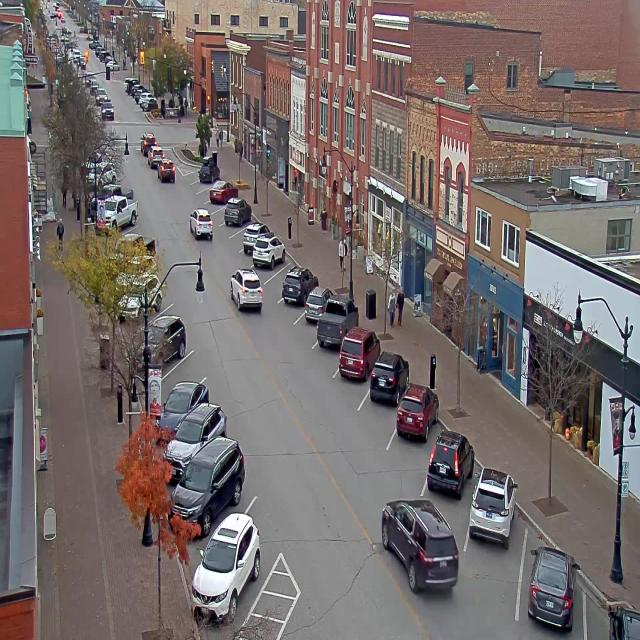available: (162, 342, 213, 387), (224, 214, 251, 248), (267, 260, 291, 293), (210, 203, 228, 226), (182, 165, 198, 187), (196, 184, 212, 205)
occupied: (169, 435, 245, 539), (193, 509, 265, 608), (527, 544, 579, 630), (468, 466, 518, 548), (171, 396, 233, 456), (426, 429, 475, 497), (156, 379, 209, 441), (336, 318, 377, 390), (395, 382, 436, 438), (142, 313, 187, 363), (369, 350, 409, 406), (316, 296, 358, 349), (597, 590, 640, 640), (282, 264, 318, 305), (301, 286, 334, 326), (252, 232, 285, 269), (242, 221, 270, 255), (224, 197, 251, 227), (209, 182, 239, 202), (198, 159, 219, 182)
